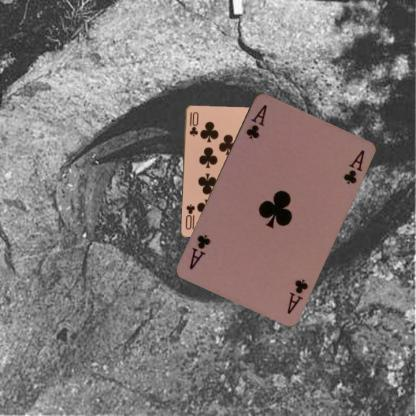10c: (187, 109, 199, 138)
Ac: (284, 275, 311, 315), (243, 102, 268, 140)
